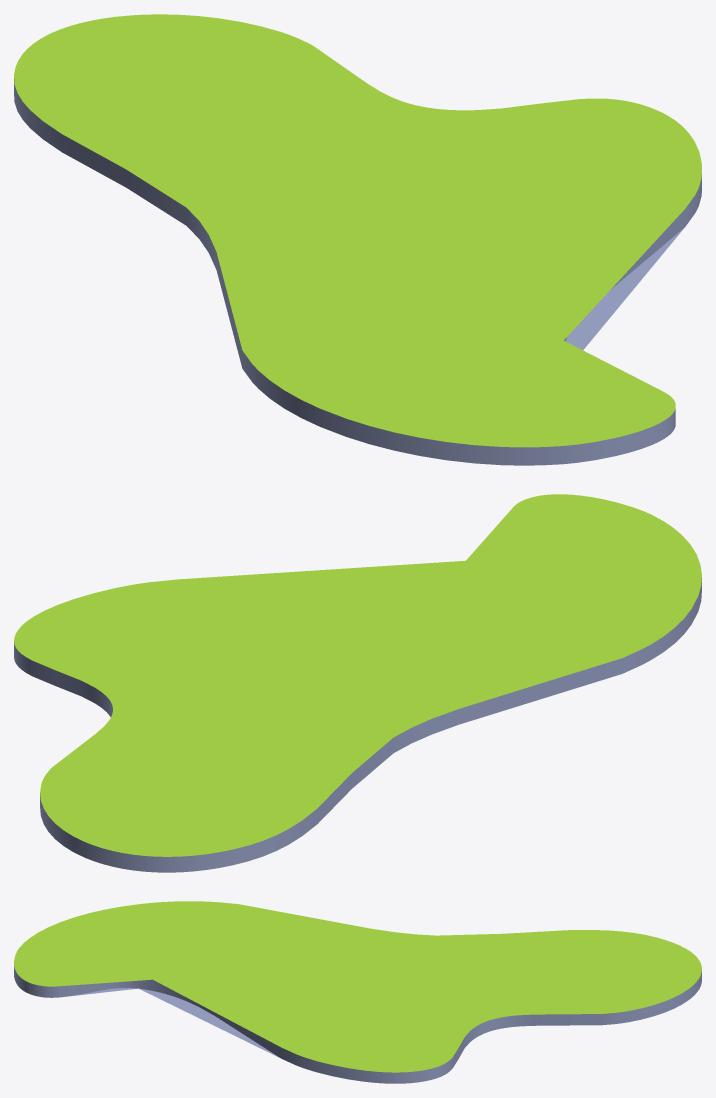
The model's file is Lastholes7.fbx.
The picture shows the model from 3 angles, top to bottom: view 1: azimuth 30°, elevation 25°; view 2: azimuth 150°, elevation 25°; view 3: azimuth 270°, elevation 25°; orthographic projection. The views are drawn at different scales.
Visible parts, largest first — view 1: mainRes_2; view 2: mainRes_2; view 3: mainRes_2.
Part boxes in pixels (bbox=[...]): mainRes_2: bbox=[14, 14, 701, 465]; mainRes_2: bbox=[14, 494, 701, 872]; mainRes_2: bbox=[14, 901, 701, 1083].
Size of the model in its own units: 982 by 30 by 1666.
